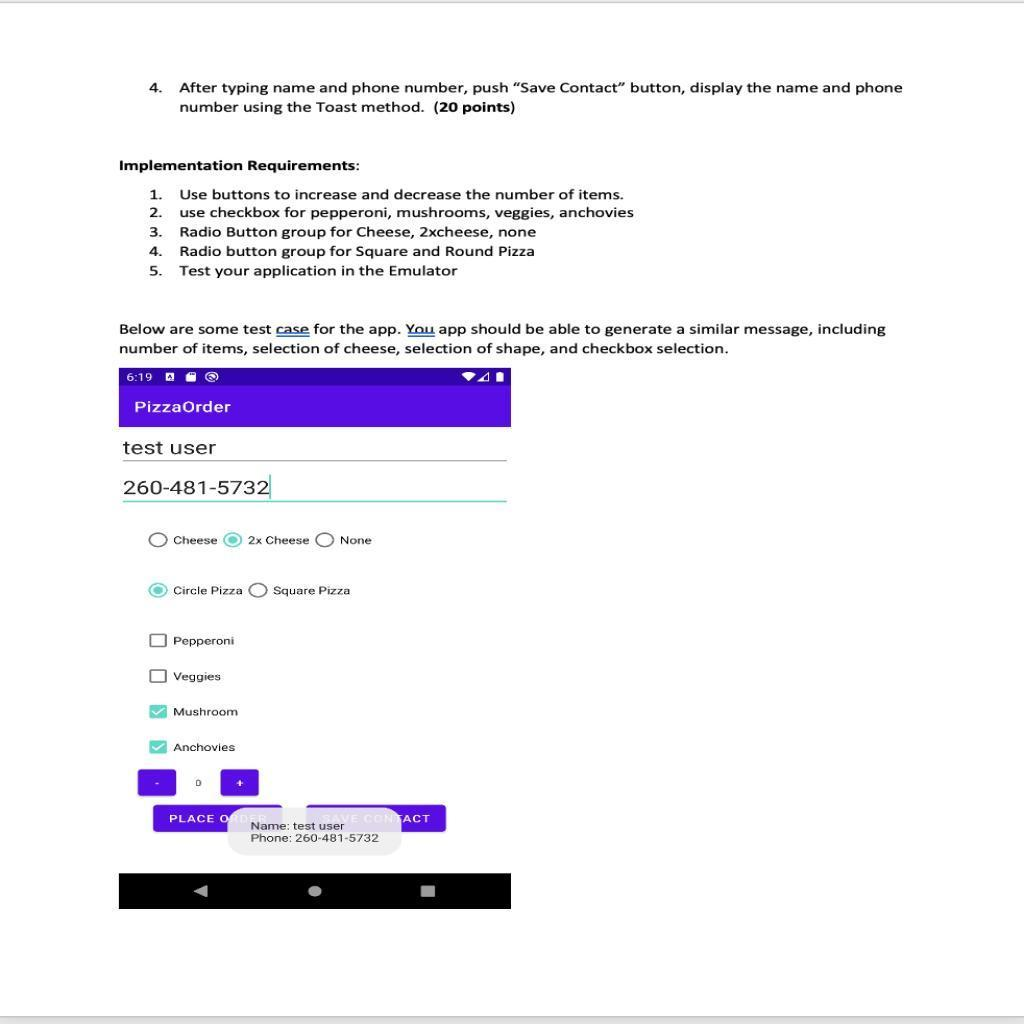checkbox: (149, 669, 170, 685), (149, 705, 170, 721), (150, 633, 169, 650), (149, 740, 170, 755)
radio: (315, 532, 338, 551), (147, 532, 170, 550), (223, 532, 245, 550), (149, 582, 170, 600), (249, 583, 269, 601)
